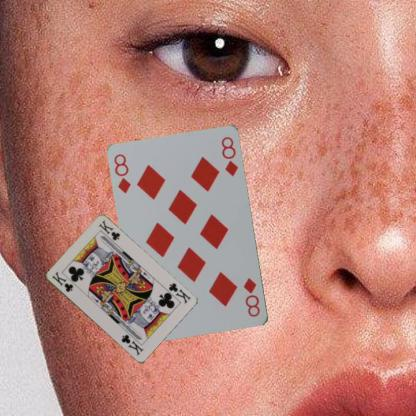8d: (241, 275, 262, 318), (112, 151, 132, 195)
Kc: (49, 269, 74, 294), (166, 280, 191, 305)
